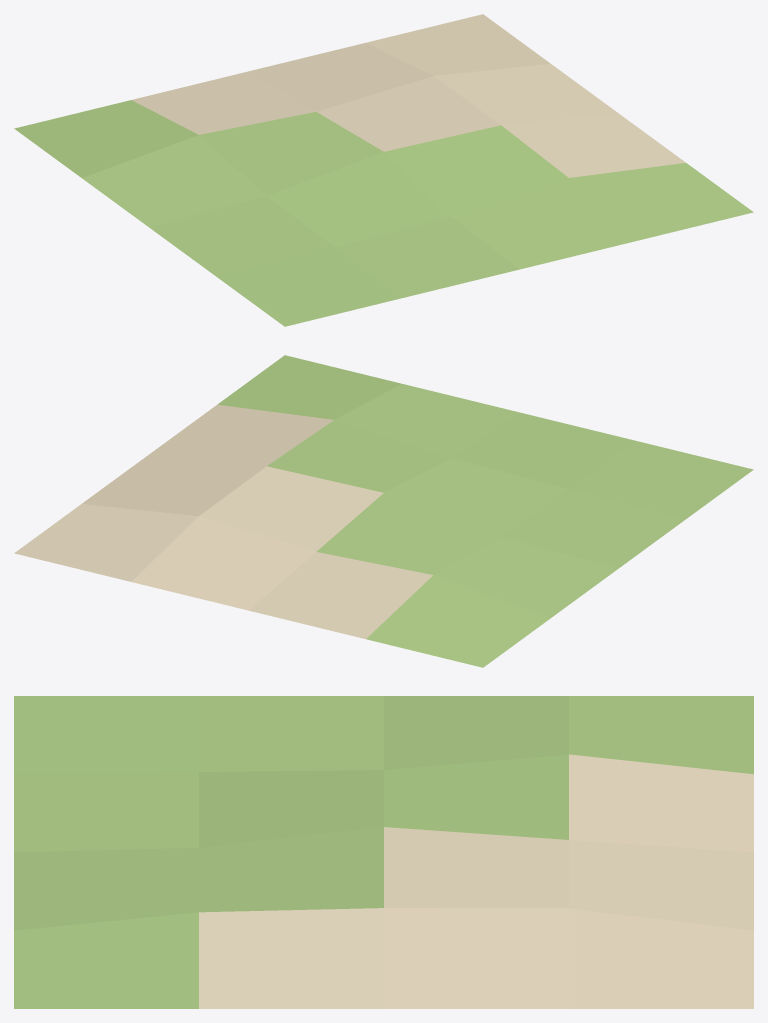
Rendered from Tile_35_Trans_Grass_Sand.glb.
The picture shows the model from 3 angles, top to bottom: view 1: azimuth 30°, elevation 25°; view 2: azimuth 150°, elevation 25°; view 3: azimuth 270°, elevation 25°; orthographic projection. The views are drawn at different scales.
Visible parts, largest first — view 1: Tile_Trans_Grass_Sand; view 2: Tile_Trans_Grass_Sand; view 3: Tile_Trans_Grass_Sand.
Part boxes in pixels (<box>): Tile_Trans_Grass_Sand: <box>14,14,753,326</box>; Tile_Trans_Grass_Sand: <box>14,355,753,667</box>; Tile_Trans_Grass_Sand: <box>14,696,753,1008</box>.
Size of the model in its own units: 0.2 by 0.00759 by 0.2.
